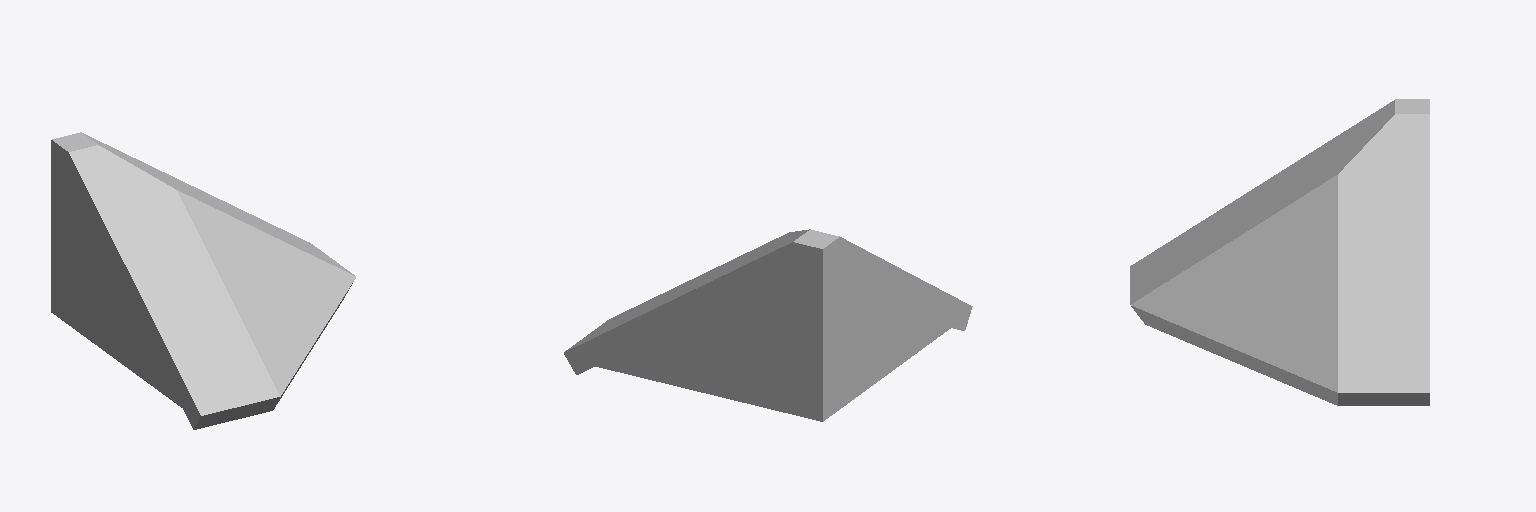
File: roof-slanted-corner-a.obj
The picture shows the model from 3 angles: view 1: azimuth 30°, elevation 25°; view 2: azimuth 150°, elevation 25°; view 3: azimuth 270°, elevation 25°; orthographic projection.
Parts seen in each view (by area): view 1: roof-slanted-corner-a; view 2: roof-slanted-corner-a; view 3: roof-slanted-corner-a.
Part boxes in pixels (x1,y1,x2,y2): roof-slanted-corner-a: (51,132,355,429); roof-slanted-corner-a: (564,229,972,421); roof-slanted-corner-a: (1130,99,1429,405).
Bounding box in the file's own units: 1.14 × 0.782 × 1.14.